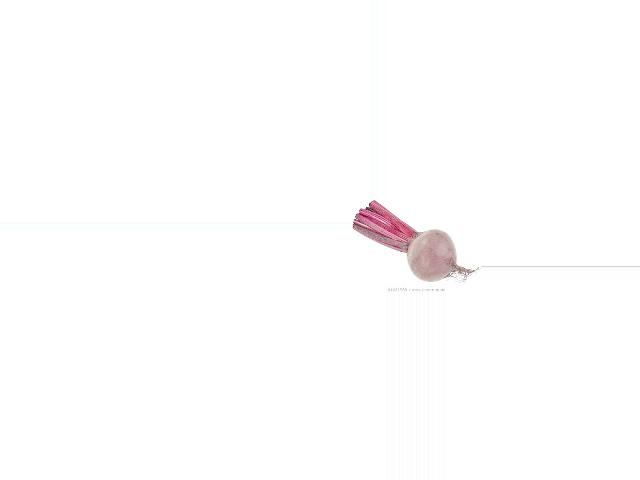beet: (352, 201, 478, 281)
